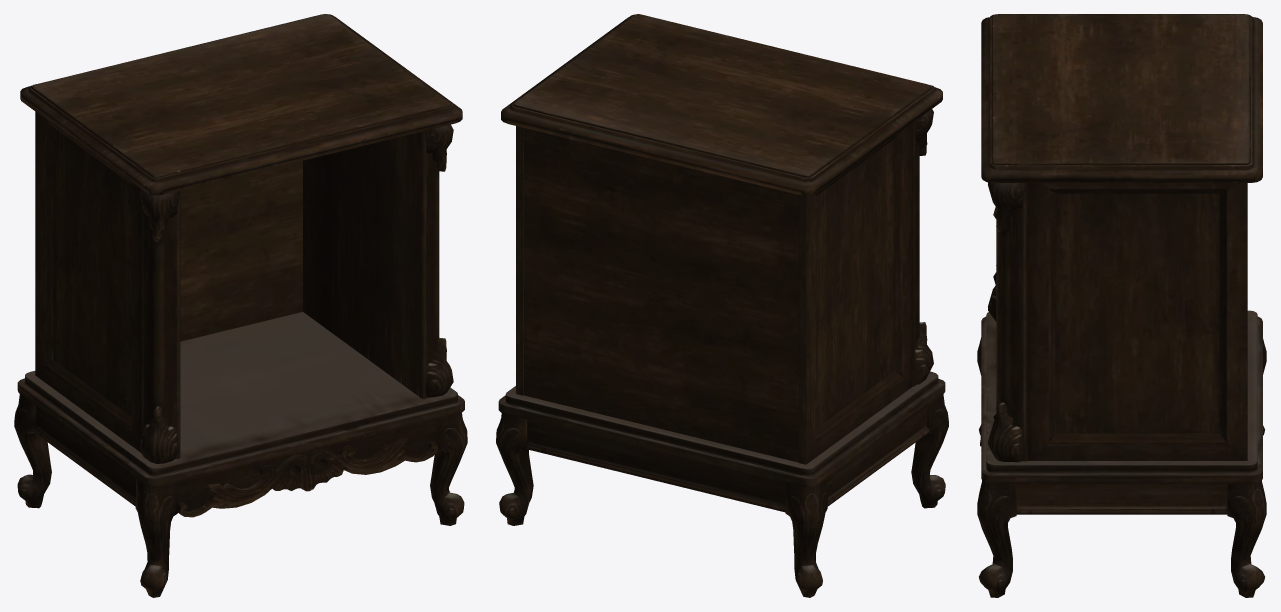
The model's file is ClassicNightstand_01.glb.
3 views of the same model, side by side, from view 1: azimuth 30°, elevation 25°; view 2: azimuth 150°, elevation 25°; view 3: azimuth 270°, elevation 25° (orthographic). The views are drawn at different scales.
Visible parts, largest first — view 1: ClassicNightstand_01; view 2: ClassicNightstand_01; view 3: ClassicNightstand_01.
Part boxes in pixels (box(x1,y1,x2,y2)): ClassicNightstand_01: box(14, 14, 467, 597); ClassicNightstand_01: box(496, 14, 948, 597); ClassicNightstand_01: box(977, 14, 1266, 597).
Size of the model in its own units: 0.5678 by 0.7 by 0.4242.
Materials: 1 (1 with a texture image).
